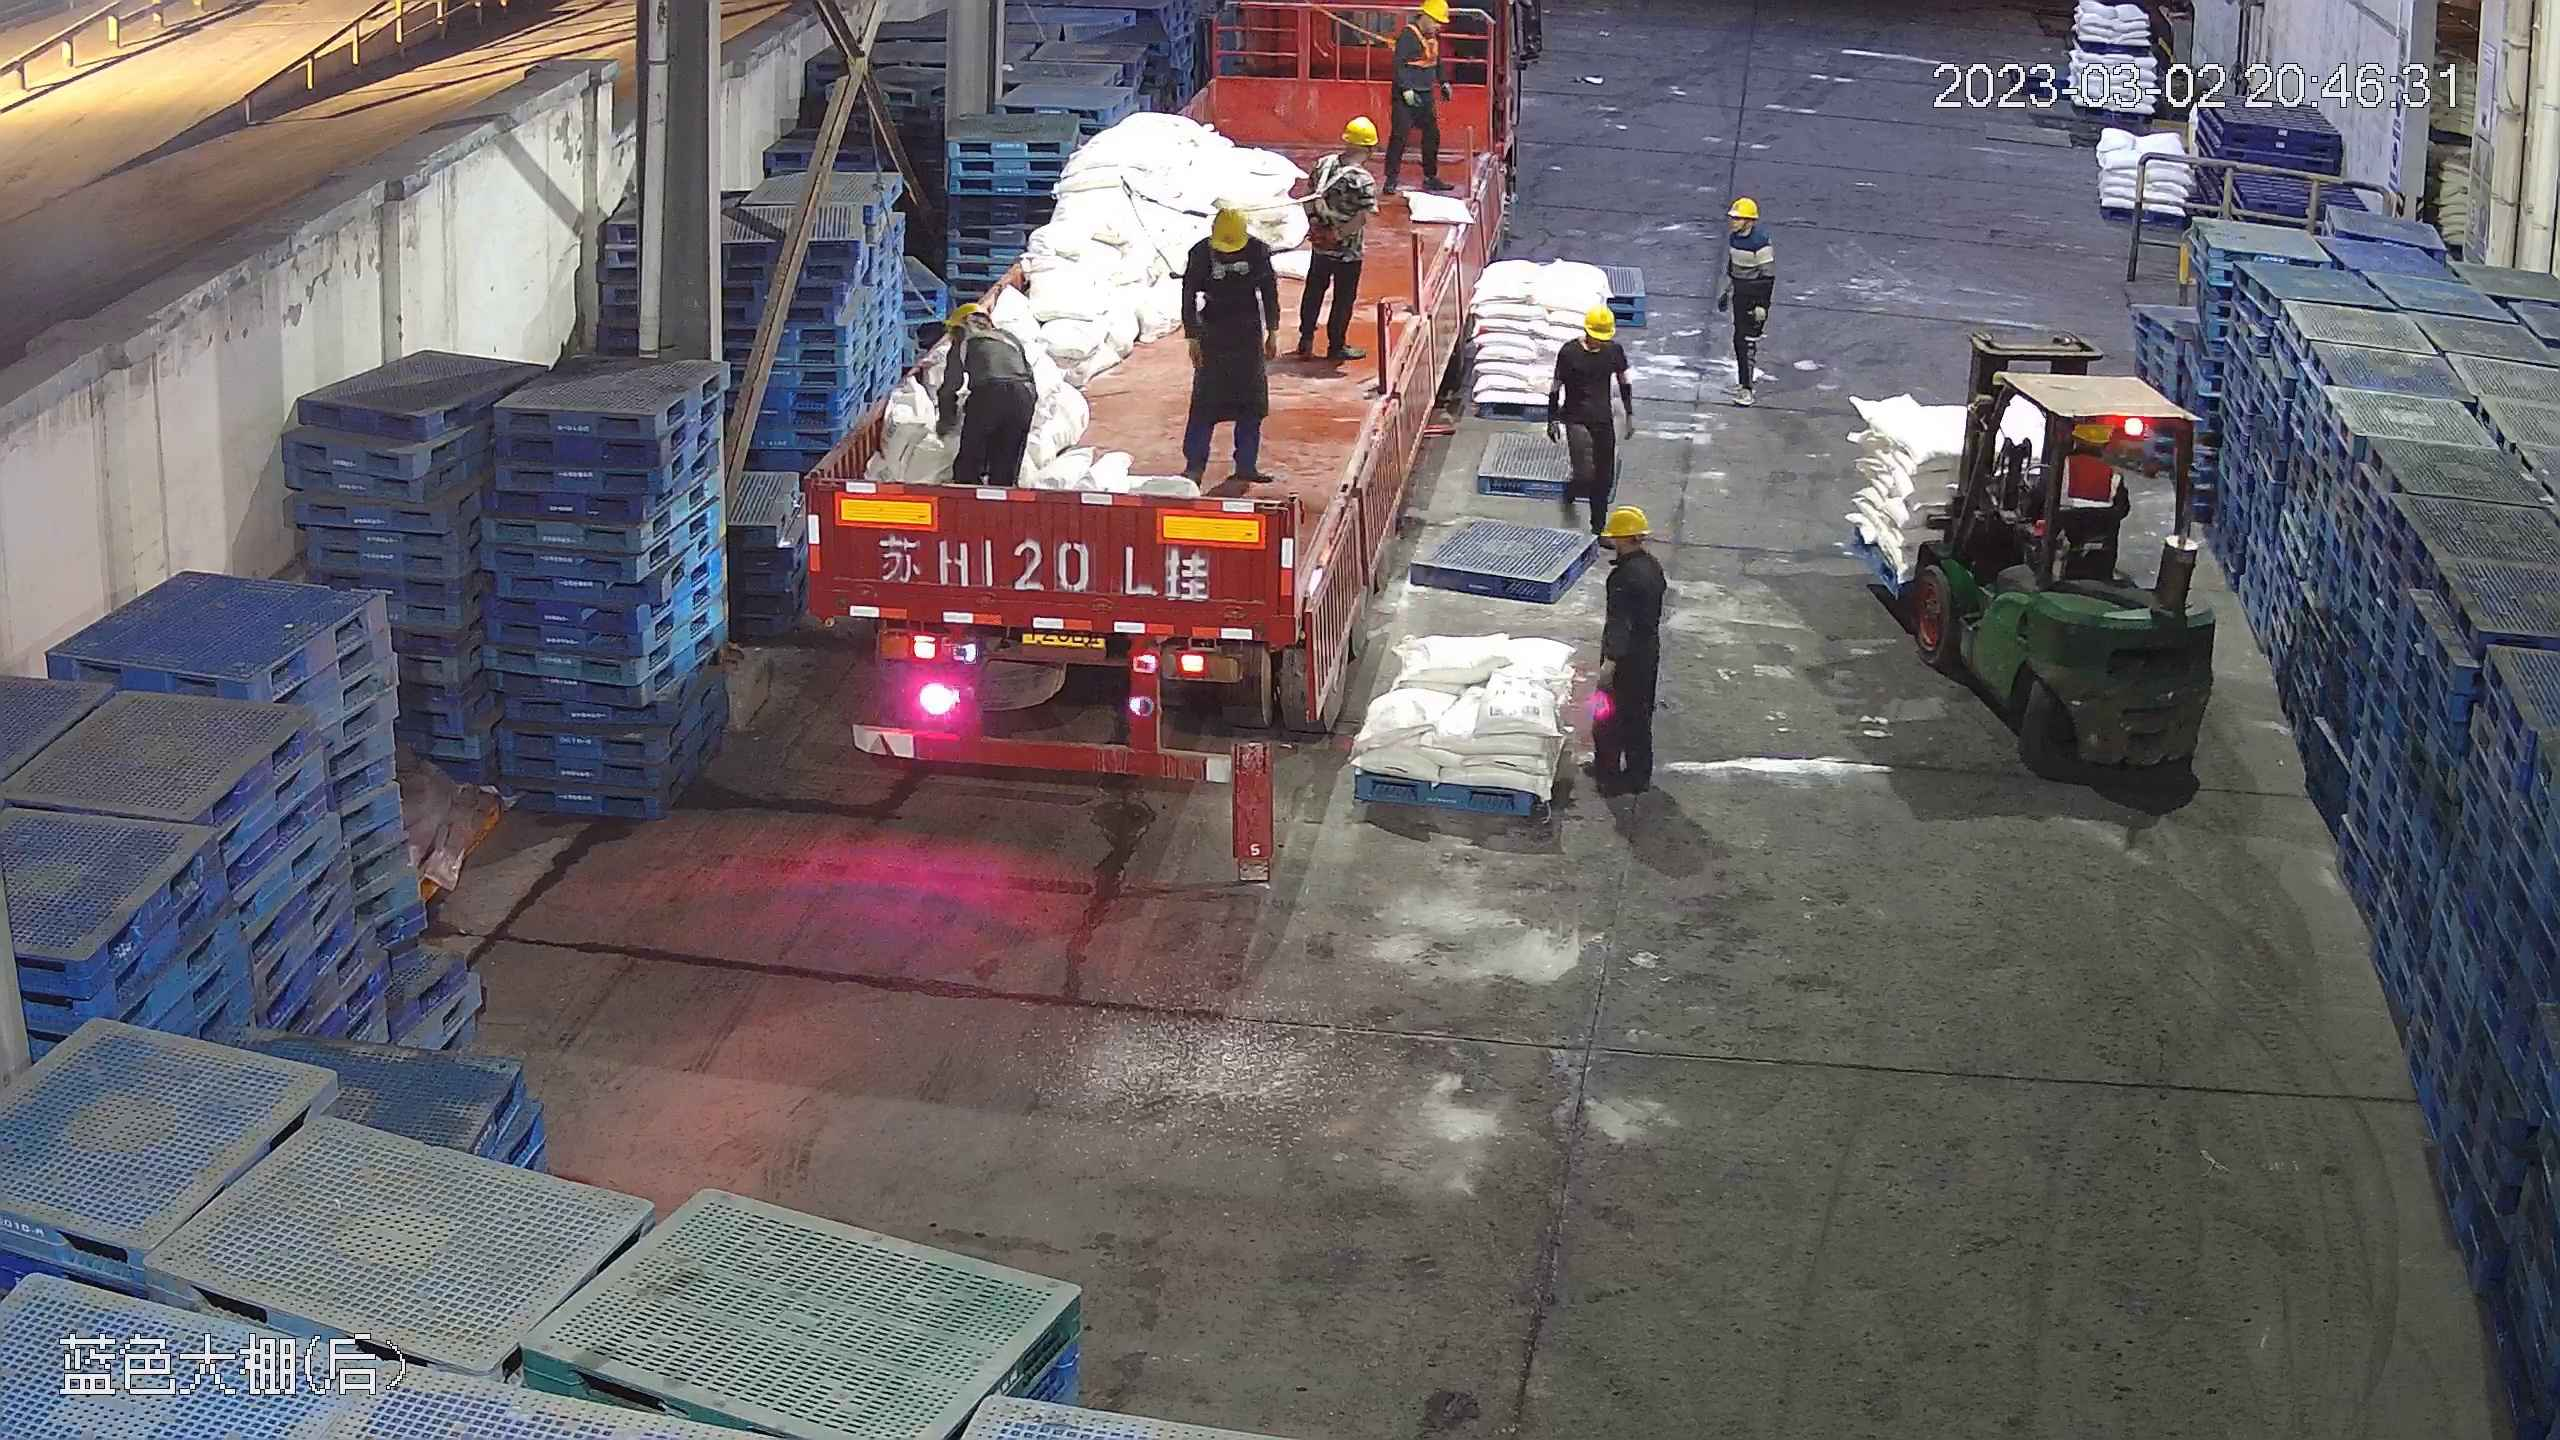belt: (1306, 154, 1366, 219), (957, 311, 1022, 365), (1194, 237, 1261, 286), (1396, 20, 1438, 63)
head: (1593, 500, 1668, 599), (1183, 199, 1275, 280), (938, 300, 1025, 372), (1309, 119, 1381, 198), (1554, 302, 1629, 374), (1721, 196, 1776, 258), (1390, 1, 1451, 52)
helmet: (1595, 501, 1664, 595), (1206, 201, 1250, 249), (1600, 501, 1649, 537), (943, 302, 985, 336), (2069, 415, 2113, 444), (1337, 118, 1379, 147), (1581, 303, 1616, 333), (1419, 1, 1450, 21), (1730, 195, 1759, 216)
people: (1177, 202, 1284, 488), (1587, 501, 1672, 802), (920, 296, 1039, 490), (1292, 117, 1377, 366), (1547, 300, 1635, 537), (1381, 1, 1455, 194), (1720, 195, 1778, 396)
truck: (819, 15, 1528, 766), (1172, 194, 1283, 488)
